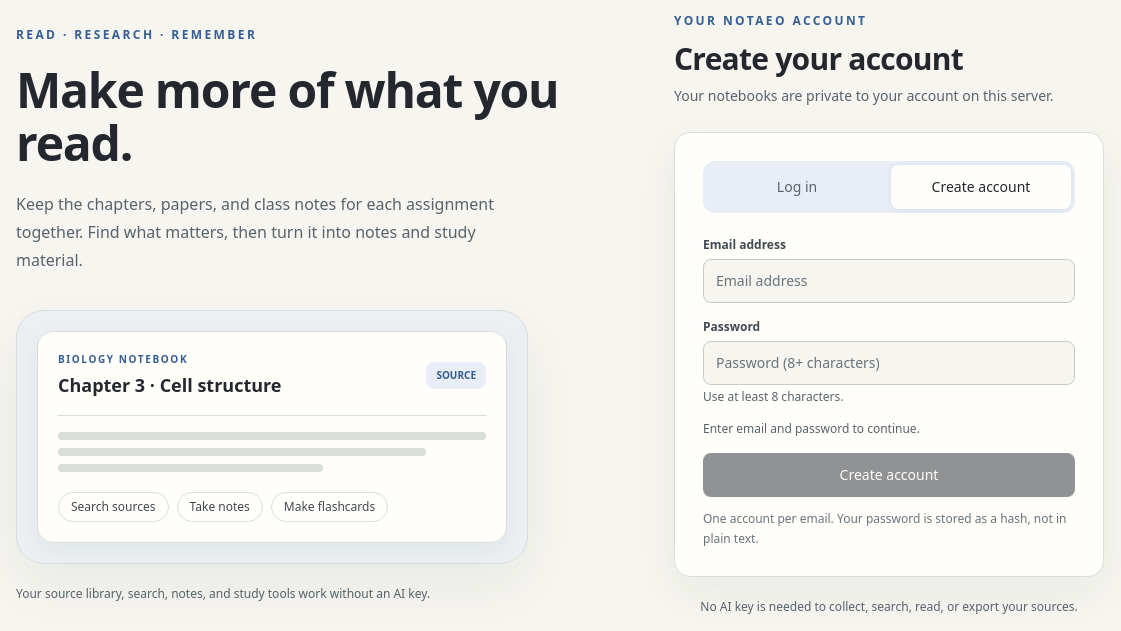
Test: submit enabled/disabled is deterministic from inputs alone (no async dependency)
Check: the button "Create account" is disabled, box [703,453,1075,497]
Check: the text "Enter email and password to continue." is shown, box [703,420,920,437]
Type "a@example.test" into the field labelled "Email address" at {"x": 889, "y": 281}, box [703,259,1075,303]
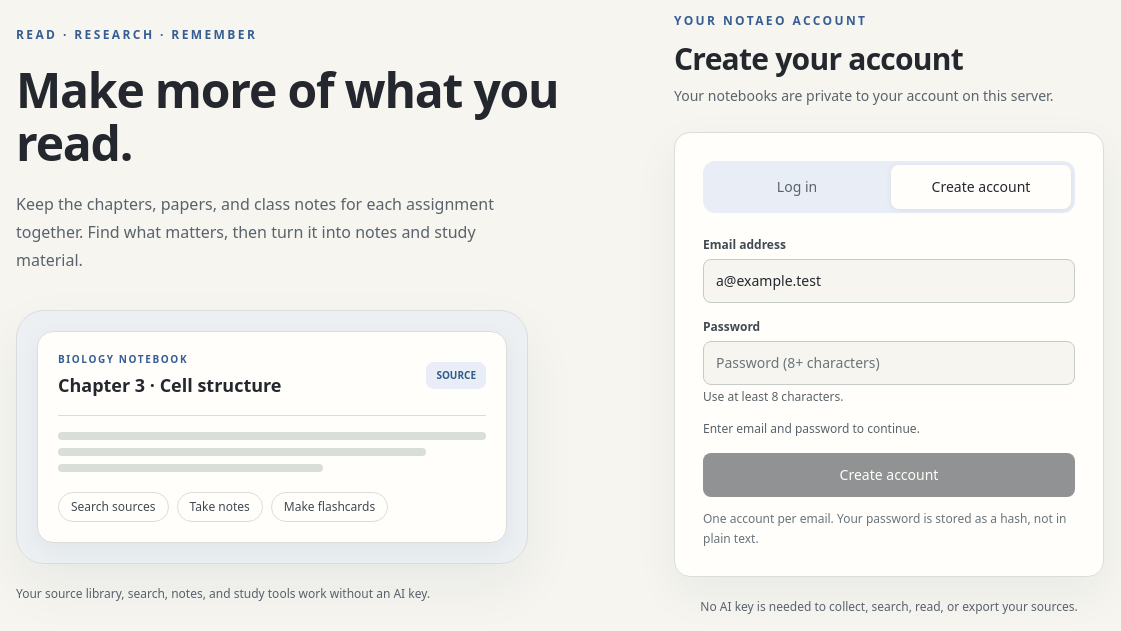
Check: the button "Create account" is disabled, box [703,453,1075,497]
Type "long-enough" into the password field labelled "Password" at {"x": 889, "y": 363}, box [703,341,1075,385]
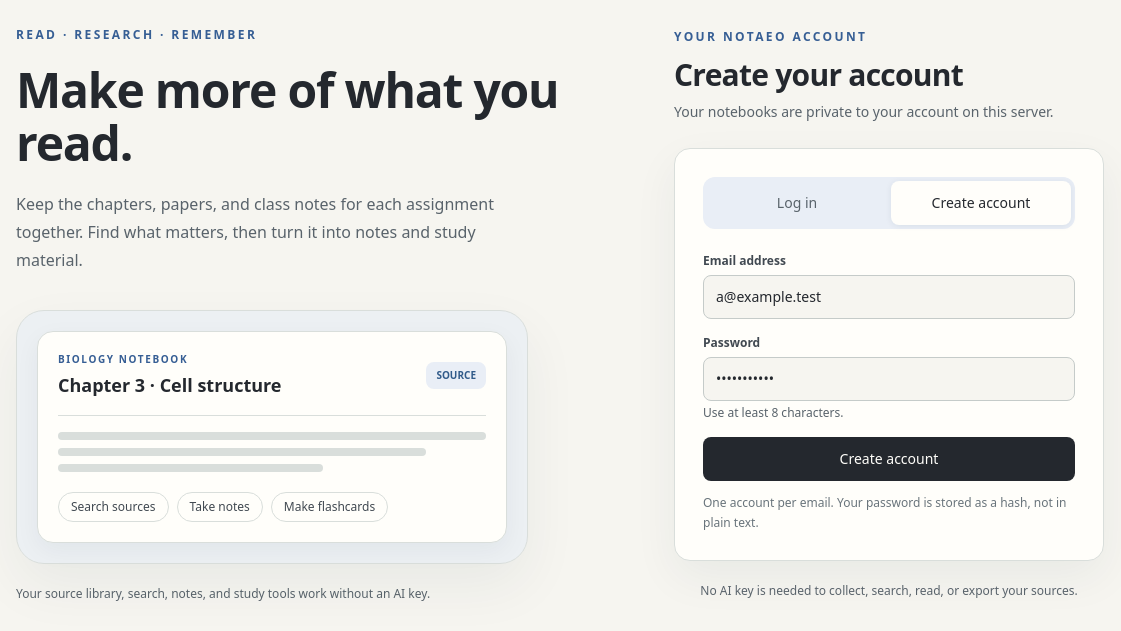
Check: the button "Create account" is enabled, box [703,437,1075,481]
Note: Clearing email re-disables synchronously.
Clear the field labelled "Email address" at {"x": 889, "y": 297}, box [703,275,1075,319]
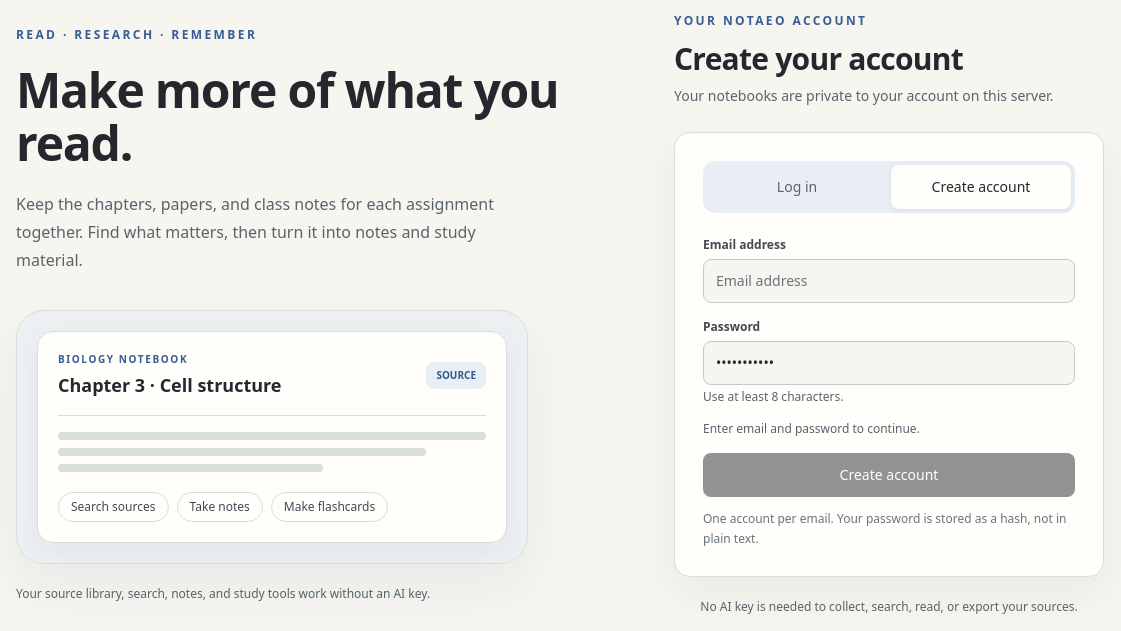
Check: the button "Create account" is disabled, box [703,453,1075,497]
